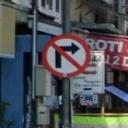NoVirarDireita: (41, 32, 93, 80)
